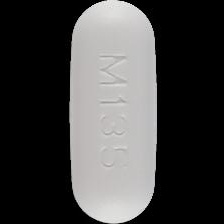0378-0135: (0, 0, 224, 224)
